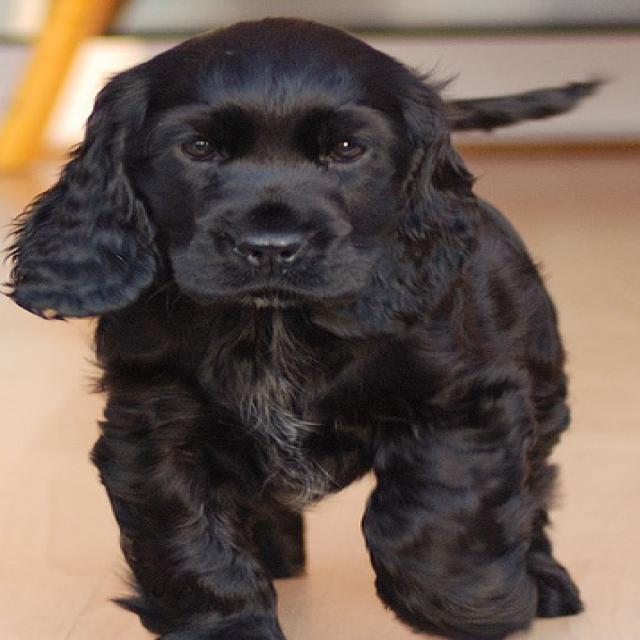dog-english_cocker_spaniel: (2, 14, 611, 637)
